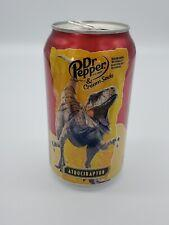metal: (44, 22, 136, 184)
